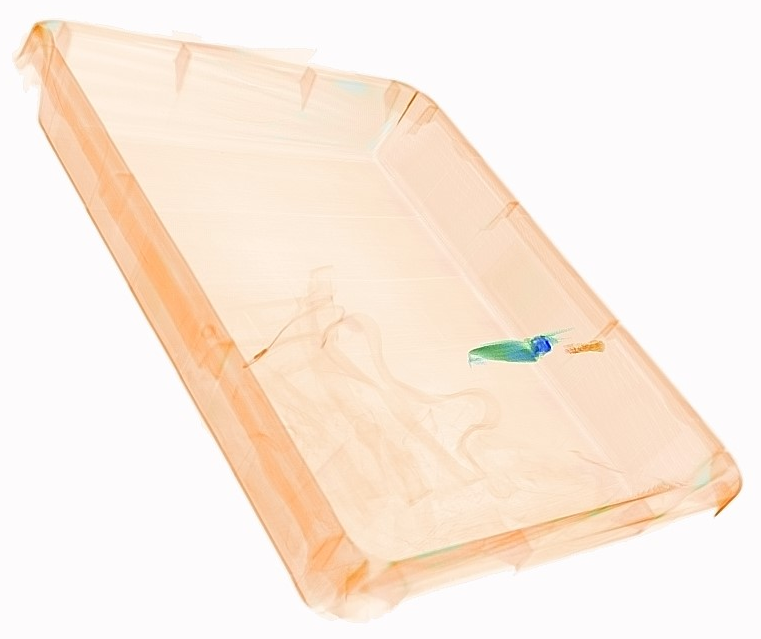Knife: (462, 323, 610, 369)
